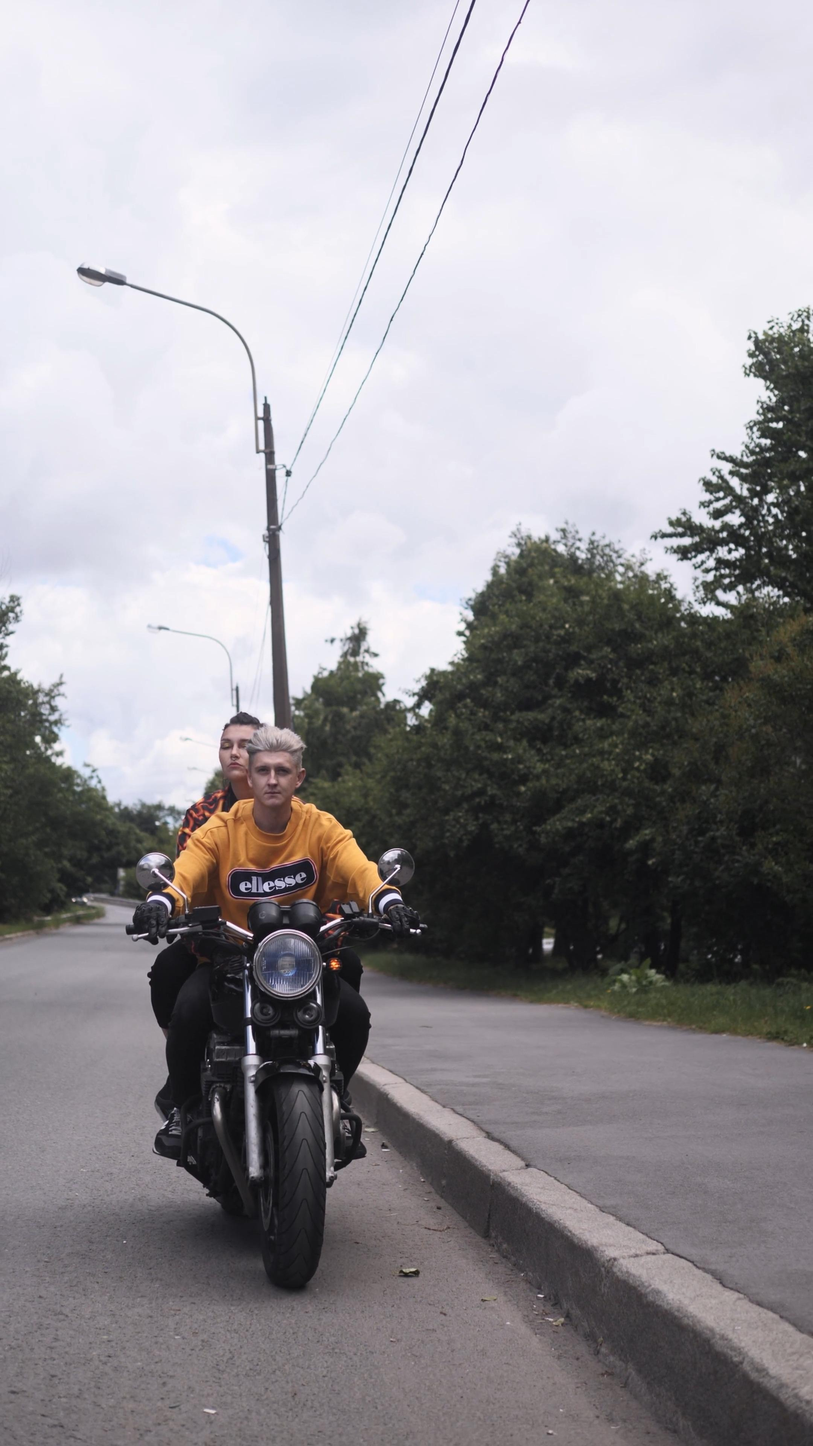driver: (123, 713, 430, 1291)
no-helmet: (245, 726, 307, 808), (220, 713, 260, 779)
